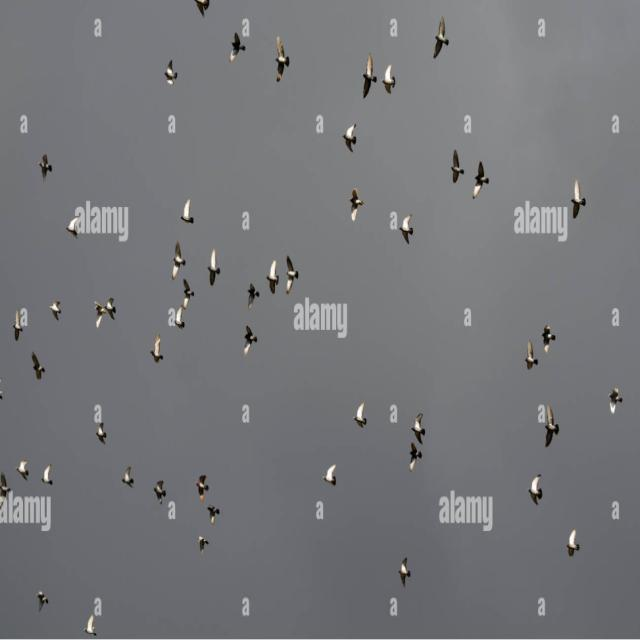bird: (426, 17, 454, 72), (472, 154, 500, 206), (356, 43, 378, 107), (268, 36, 295, 88), (409, 395, 436, 442), (570, 170, 593, 224), (341, 118, 367, 162), (282, 246, 304, 298), (438, 148, 466, 187), (561, 516, 583, 562), (146, 332, 170, 372), (381, 61, 404, 102), (344, 183, 364, 228), (166, 241, 188, 281), (202, 248, 222, 290), (346, 398, 370, 433), (518, 336, 540, 374), (544, 406, 563, 449), (242, 322, 263, 360), (396, 545, 414, 589), (540, 322, 562, 358), (203, 501, 231, 529), (604, 379, 624, 417), (161, 58, 186, 88), (238, 278, 260, 312), (398, 210, 417, 249), (264, 254, 282, 294), (89, 298, 108, 334), (524, 474, 548, 502), (319, 462, 342, 491), (149, 472, 167, 508), (44, 298, 67, 326), (36, 151, 54, 186), (120, 459, 136, 496), (224, 31, 244, 60), (406, 444, 426, 473), (30, 350, 48, 382), (178, 278, 196, 310), (194, 471, 209, 507), (178, 197, 194, 230), (40, 461, 56, 494), (104, 295, 122, 323), (15, 455, 30, 488), (32, 586, 48, 616), (80, 614, 98, 640), (192, 532, 210, 558), (0, 466, 12, 502), (10, 311, 23, 344), (94, 420, 108, 448), (192, 0, 212, 16)
